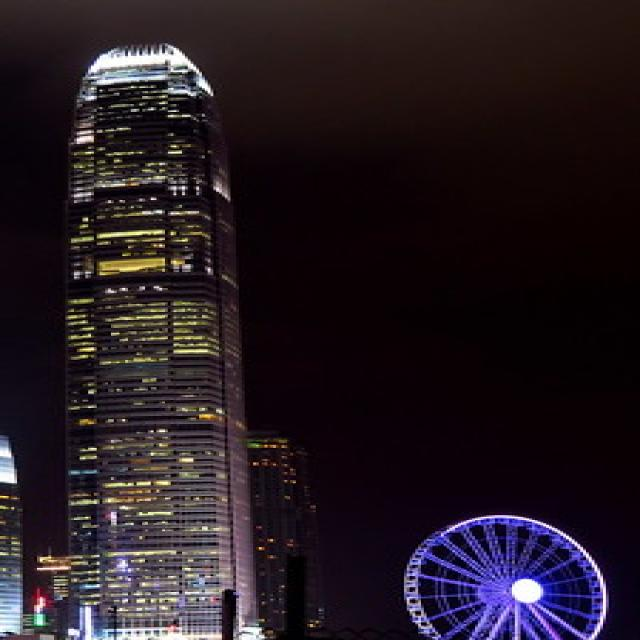building: (47, 35, 272, 638)
